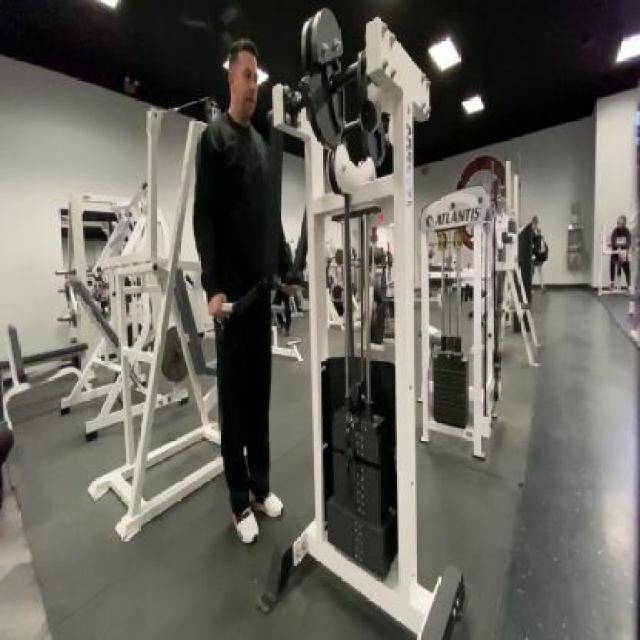lateral raises machine: (221, 0, 434, 640)
